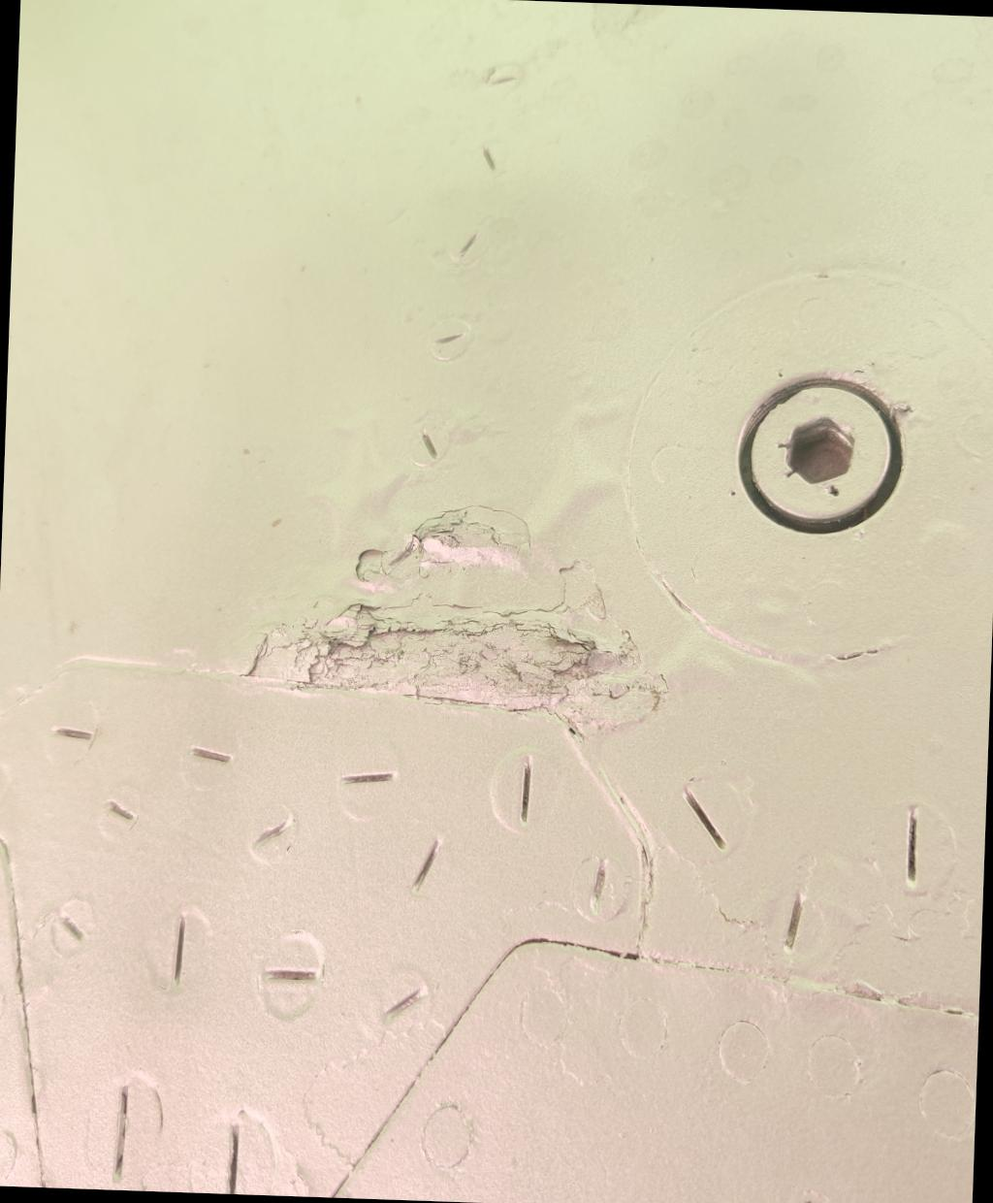corrosion: (250, 503, 659, 726)
